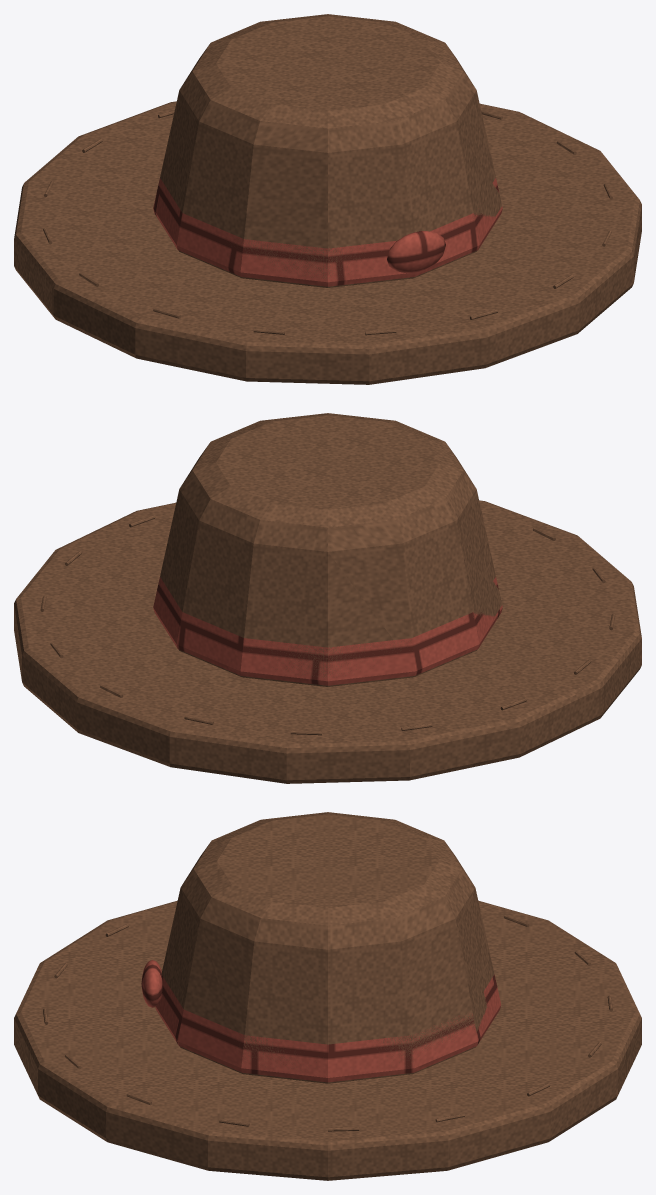
The model's file is hat_cowboy.glb.
The picture shows the model from 3 angles, top to bottom: view 1: azimuth 30°, elevation 25°; view 2: azimuth 150°, elevation 25°; view 3: azimuth 270°, elevation 25°; orthographic projection.
Visible parts, largest first — view 1: brim, crown, band, band_clasp; view 2: brim, crown, band; view 3: brim, crown, band, band_clasp.
Part boxes in pixels (<box>): brim: <box>14,101,641,384</box>; crown: <box>160,14,501,287</box>; band: <box>153,178,502,286</box>; band_clasp: <box>387,231,445,273</box>; brim: <box>14,500,641,783</box>; crown: <box>160,413,501,686</box>; band: <box>153,577,502,685</box>; brim: <box>14,900,641,1180</box>; crown: <box>161,812,494,1083</box>; band: <box>155,974,501,1082</box>; band_clasp: <box>141,960,162,1007</box>.
Bounding box in the file's own units: 1.02 × 0.34 × 1.02.
Materials: 2 (2 with a texture image).
